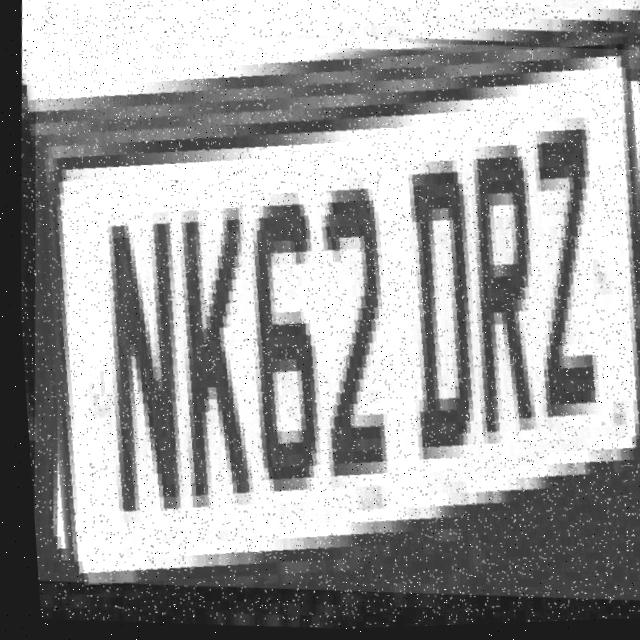LicensePlate: (2, 12, 640, 624)
